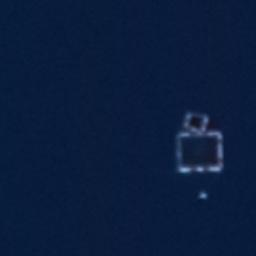square_solid: (171, 126, 230, 180)
